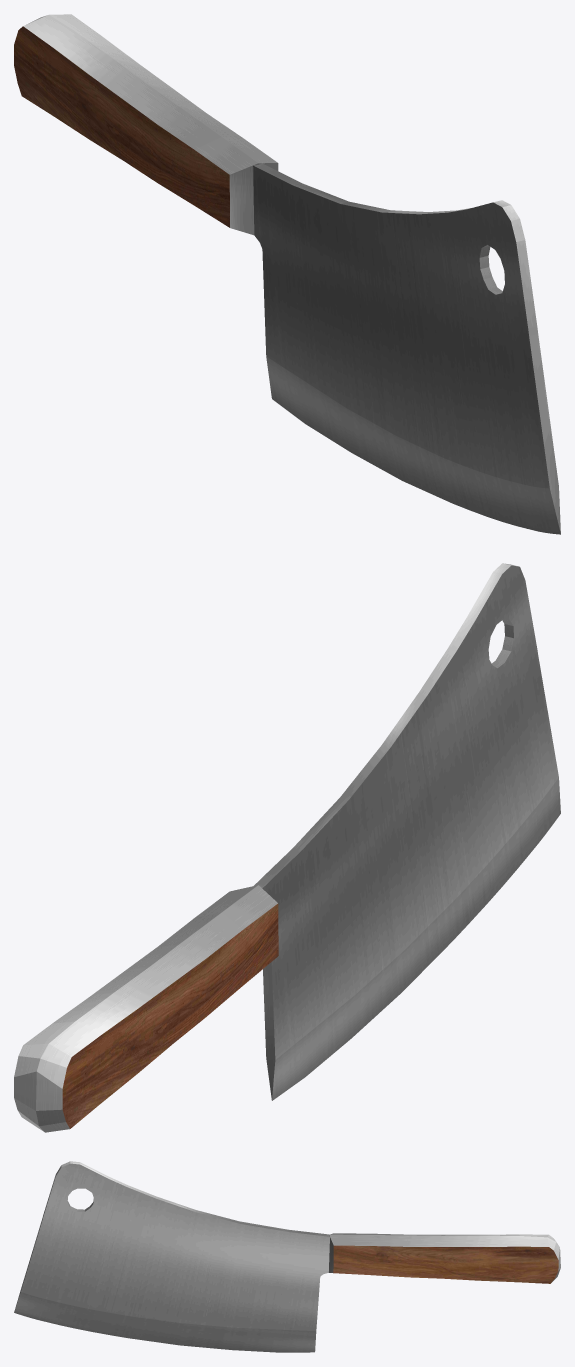
File: KN_Cleaver.fbx
The picture shows the model from 3 angles, top to bottom: view 1: azimuth 30°, elevation 25°; view 2: azimuth 150°, elevation 25°; view 3: azimuth 270°, elevation 25°; orthographic projection. The views are drawn at different scales.
Parts seen in each view (by area): view 1: Cube.002, Cube.001; view 2: Cube.002, Cube.001; view 3: Cube.002, Cube.001.
Part boxes in pixels (<box>): Cube.002: <box>253,163,560,534</box>; Cube.001: <box>14,14,278,235</box>; Cube.002: <box>254,563,560,1100</box>; Cube.001: <box>14,885,278,1132</box>; Cube.002: <box>14,1161,329,1352</box>; Cube.001: <box>328,1233,560,1283</box>.
Bounding box in the file's own units: 3.81 × 27.39 × 71.35.
